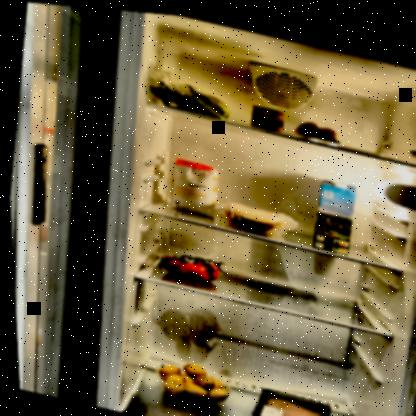chicken: (253, 387, 325, 415)
corn: (246, 96, 287, 129)
eggs: (290, 111, 339, 140)
green_beans: (153, 74, 235, 118)
milk: (308, 169, 362, 251)
potato: (149, 351, 231, 405)
tomato: (156, 245, 224, 287)
